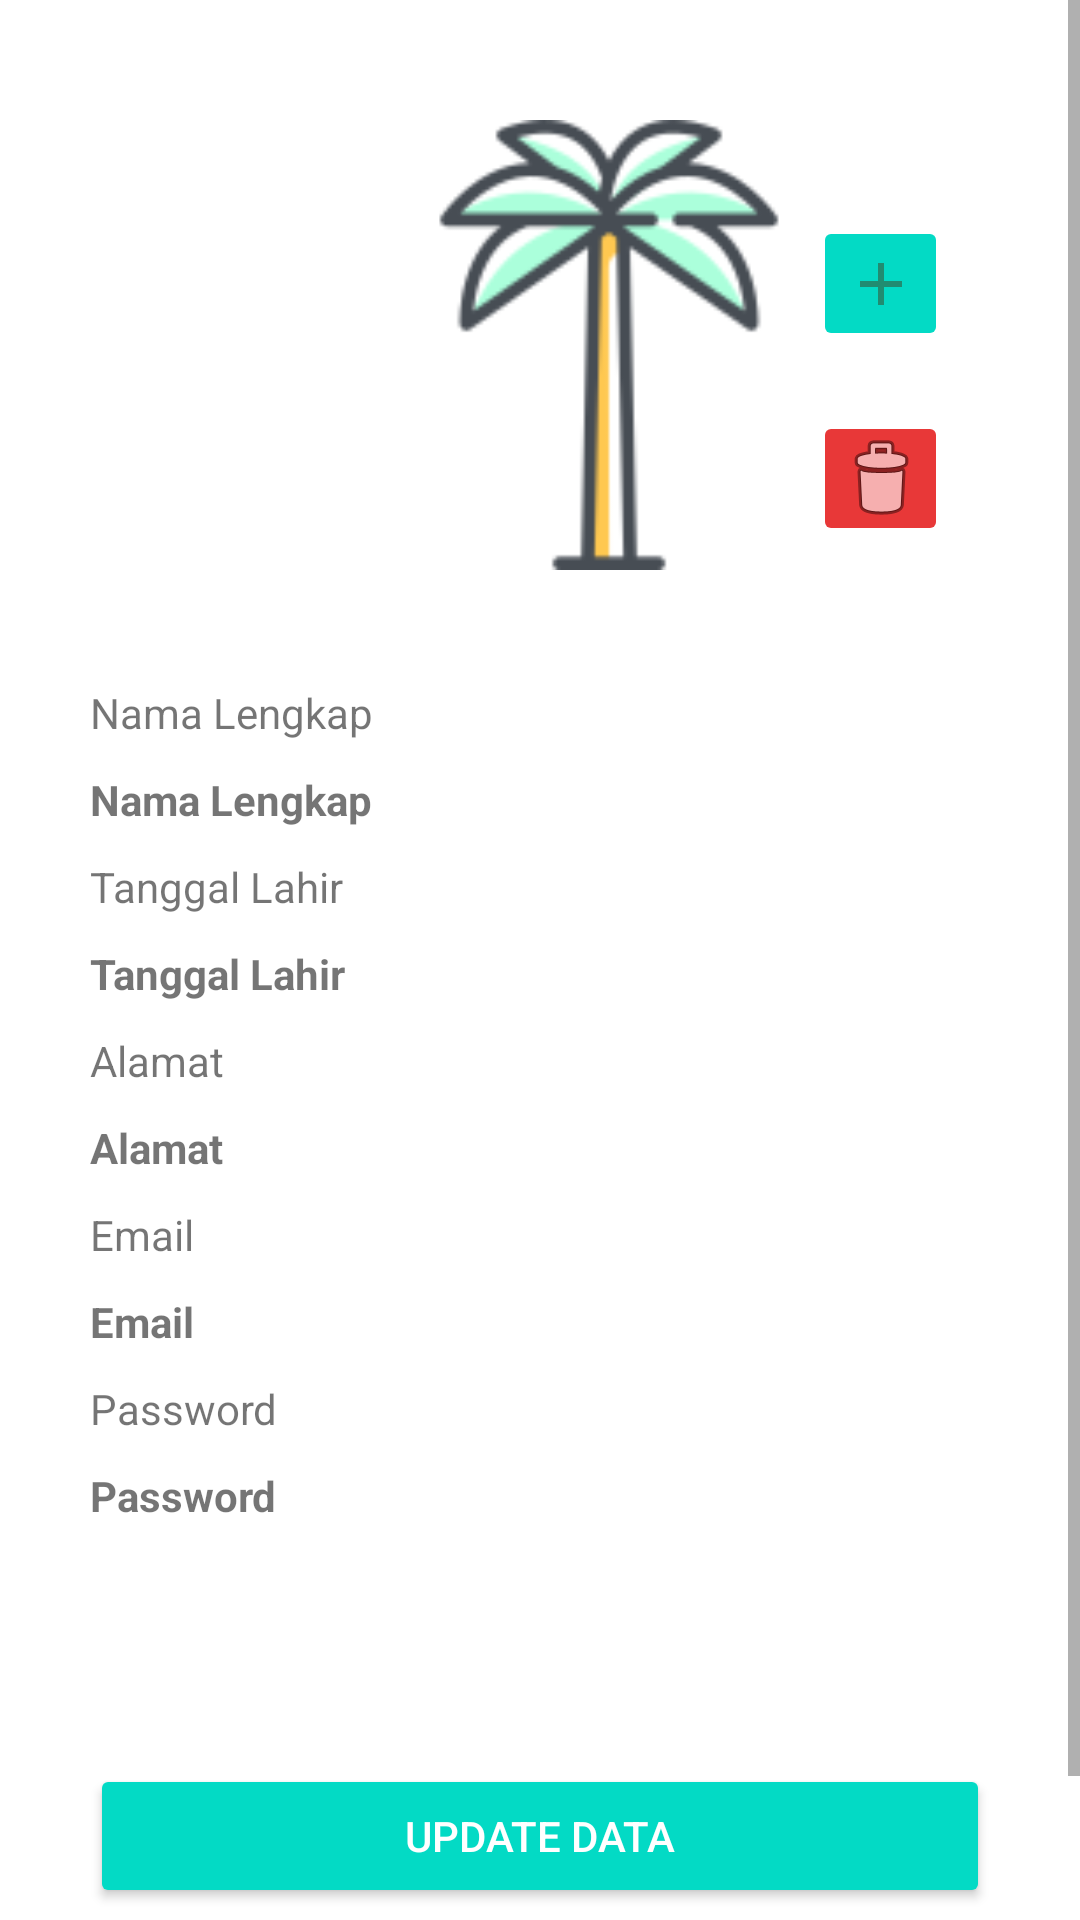

Screen size 1080*1920. Icon name, then its box in pixels as (x1, y1, x2, y2):
add: (825, 234, 936, 333)
delete: (825, 429, 936, 528)
